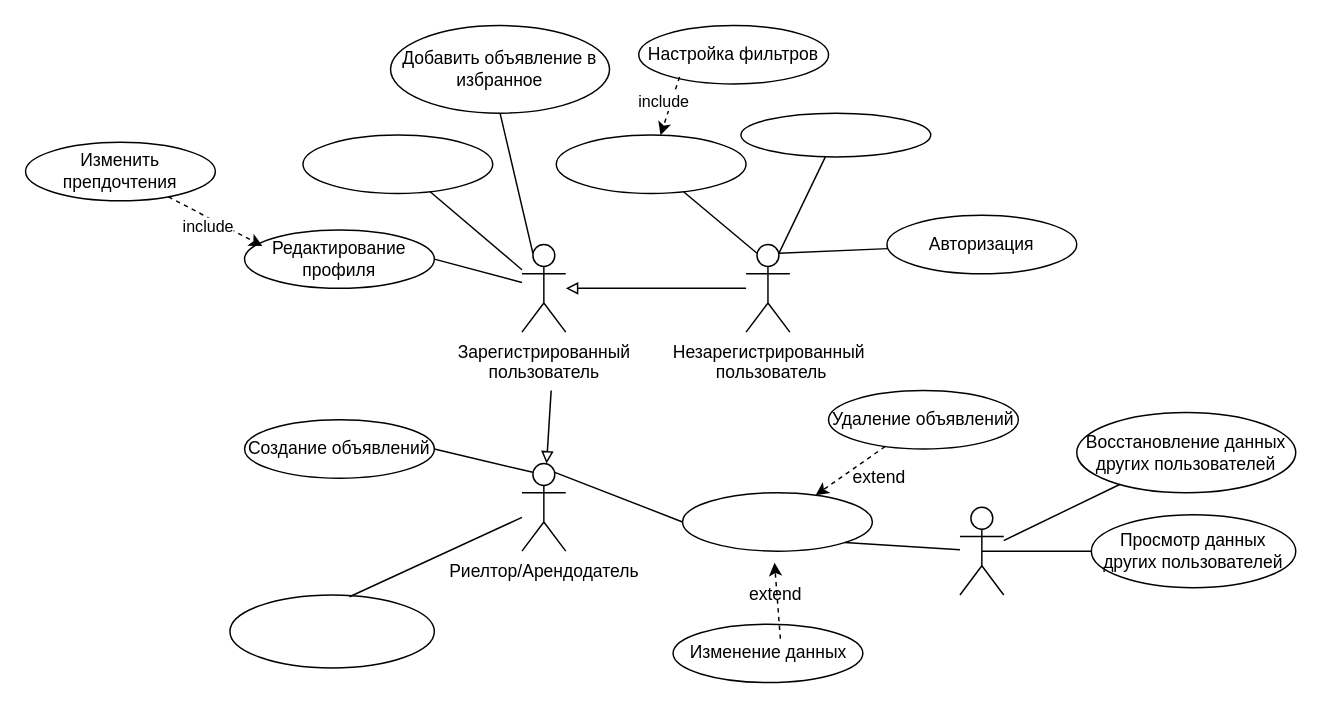
Image size: 1321x708. Some labels were removed from this diagram. Each missing label, with the centre of its shape:
Администратор: the point at 981,550
Просмотр информации о сделках: the point at 331,630
Просмотр объявлений: the point at 650,163
Регистрация: the point at 835,134
Редактирование объявлений: the point at 776,521
Связаться с пользователем: the point at 397,163
